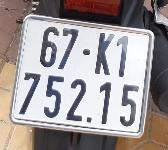1: (93, 82, 114, 126), (116, 32, 134, 79)
2: (65, 73, 87, 122)
5: (116, 79, 140, 133), (43, 71, 65, 122)
6: (38, 21, 60, 67)
7: (19, 68, 41, 116), (58, 24, 80, 70)
K: (93, 26, 113, 79)
